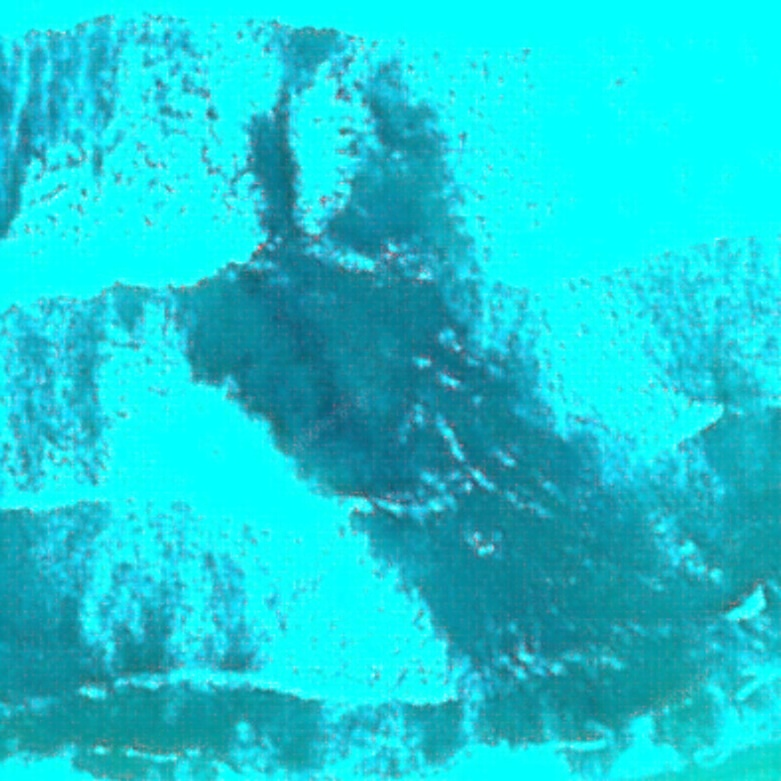rip_current: (130, 135, 660, 655)
